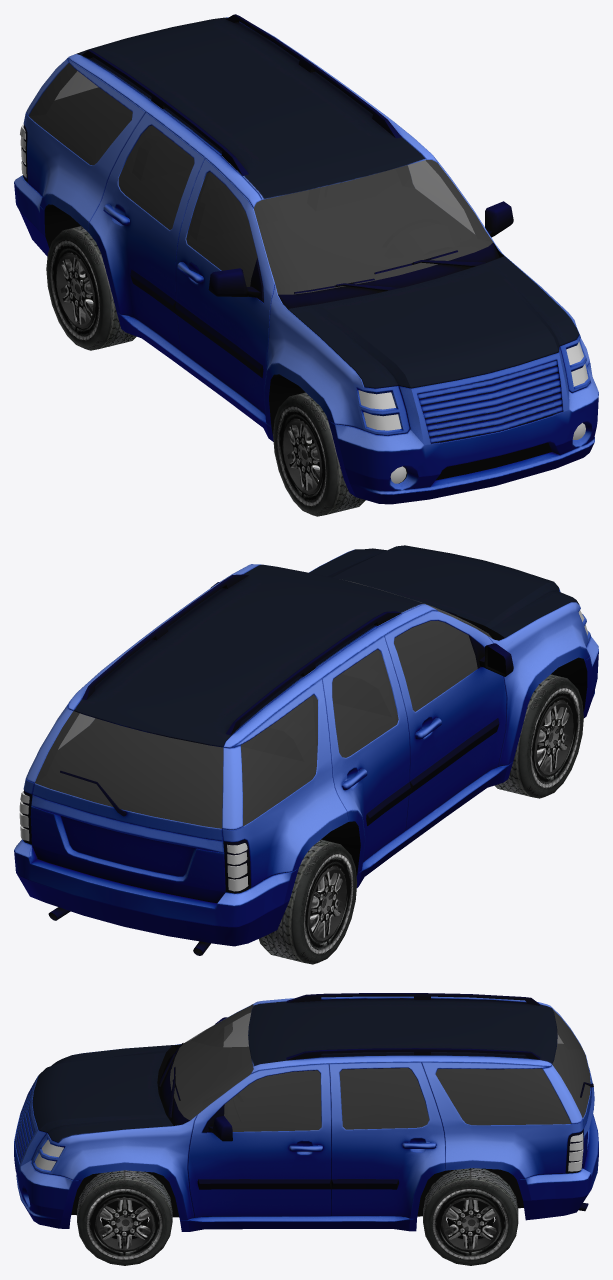
The model's file is SUV.FBX.
3 views of the same model, one above another, from view 1: azimuth 30°, elevation 25°; view 2: azimuth 150°, elevation 25°; view 3: azimuth 270°, elevation 25° (orthographic). The views are drawn at different scales.
Visible parts, largest first — view 1: body, Wheel_E002, Wheel_E007; view 2: body, Wheel_E007, Wheel_E002; view 3: body, Wheel_E006, Wheel_E005.
Part boxes in pixels (left/top/right/bottom): body: left=14, top=14, right=598, bottom=504; Wheel_E002: left=273, top=392, right=365, bottom=516; Wheel_E007: left=46, top=226, right=136, bottom=350; body: left=14, top=545, right=598, bottom=955; Wheel_E007: left=259, top=839, right=357, bottom=964; Wheel_E002: left=494, top=674, right=583, bottom=798; body: left=14, top=993, right=598, bottom=1231; Wheel_E006: left=423, top=1168, right=518, bottom=1265; Wheel_E005: left=77, top=1170, right=172, bottom=1265.
Bounding box in the file's own units: 233 × 195 × 519.
